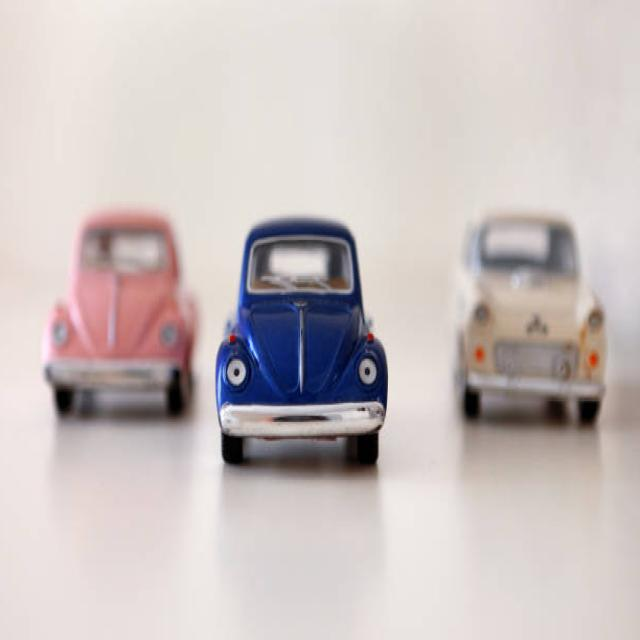Car: (216, 218, 387, 463)
